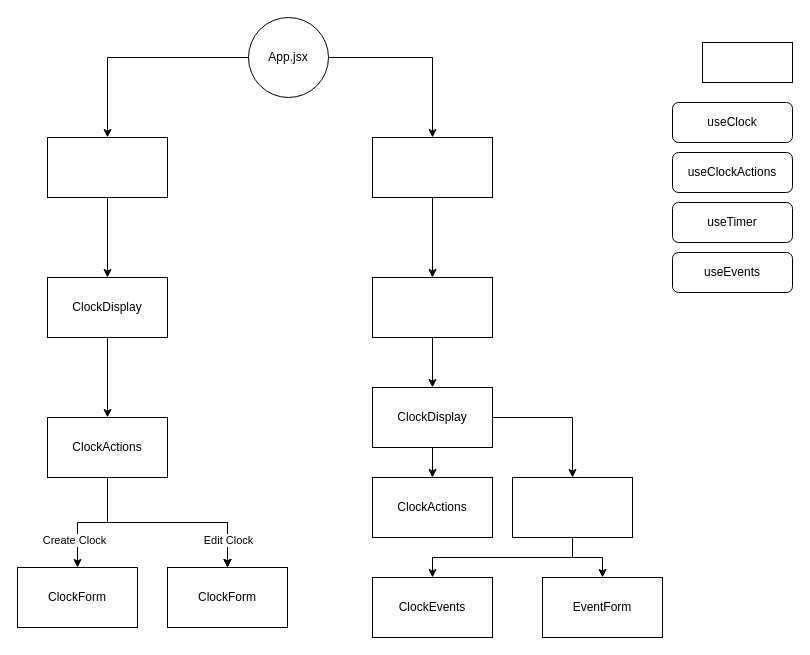
This 810x655 diagram has some shape labels left out. Each missing label, with the centre of its shape:
ClockList: the point at 432,167
ClockListItem: the point at 432,307
EventActions: the point at 572,507
Hooks: the point at 747,62
LocalClock: the point at 107,167
